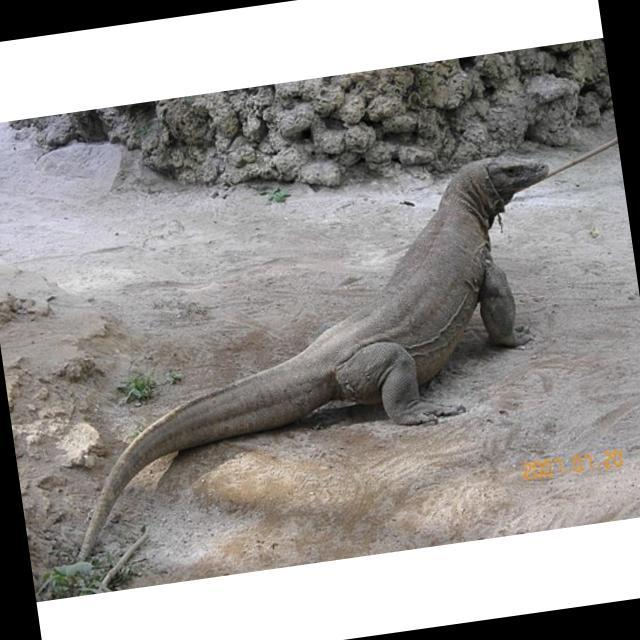KomodoDragon: (28, 145, 595, 564)
